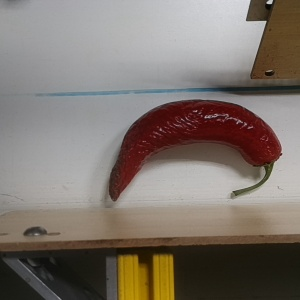Cut Point: (237, 145, 286, 174)
